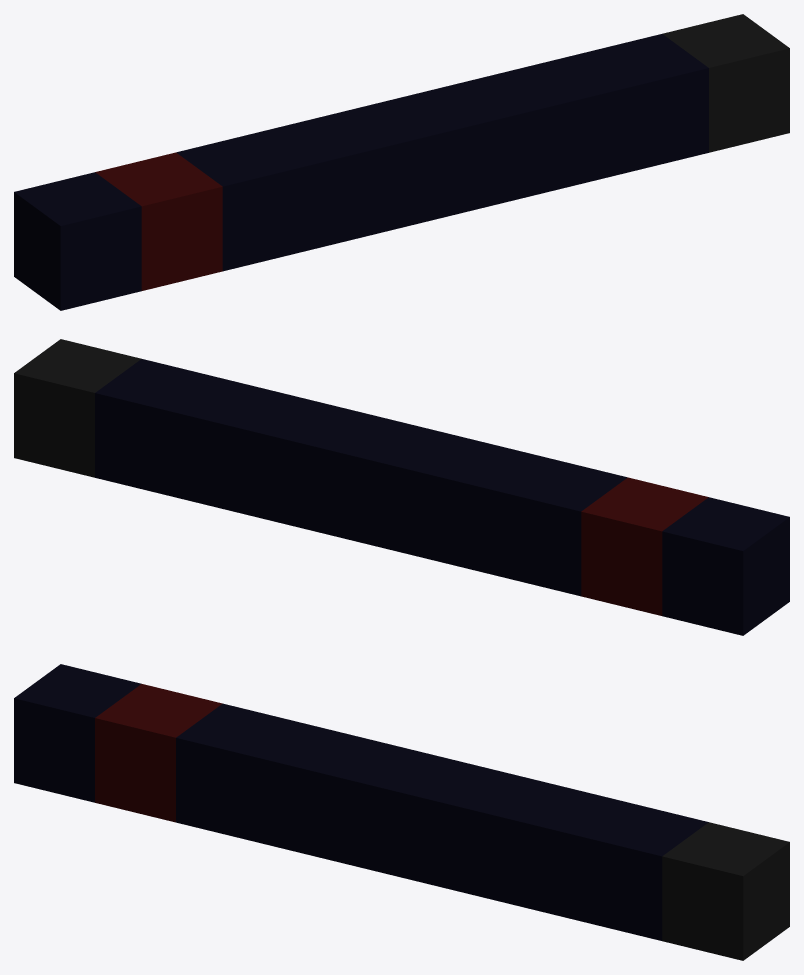
File: pencil.obj
3 renders of one model, top to bottom at view 1: azimuth 30°, elevation 25°; view 2: azimuth 150°, elevation 25°; view 3: azimuth 330°, elevation 25°, orthographic.
Size of the model in its own units: 0.9 by 0.1 by 0.1.
Materials: 1 (1 with a texture image).
